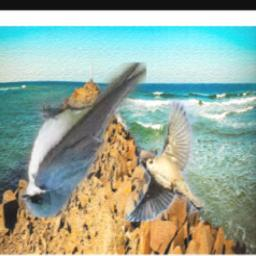Sparrow: (125, 101, 203, 222)
Swallow: (19, 63, 147, 219)
